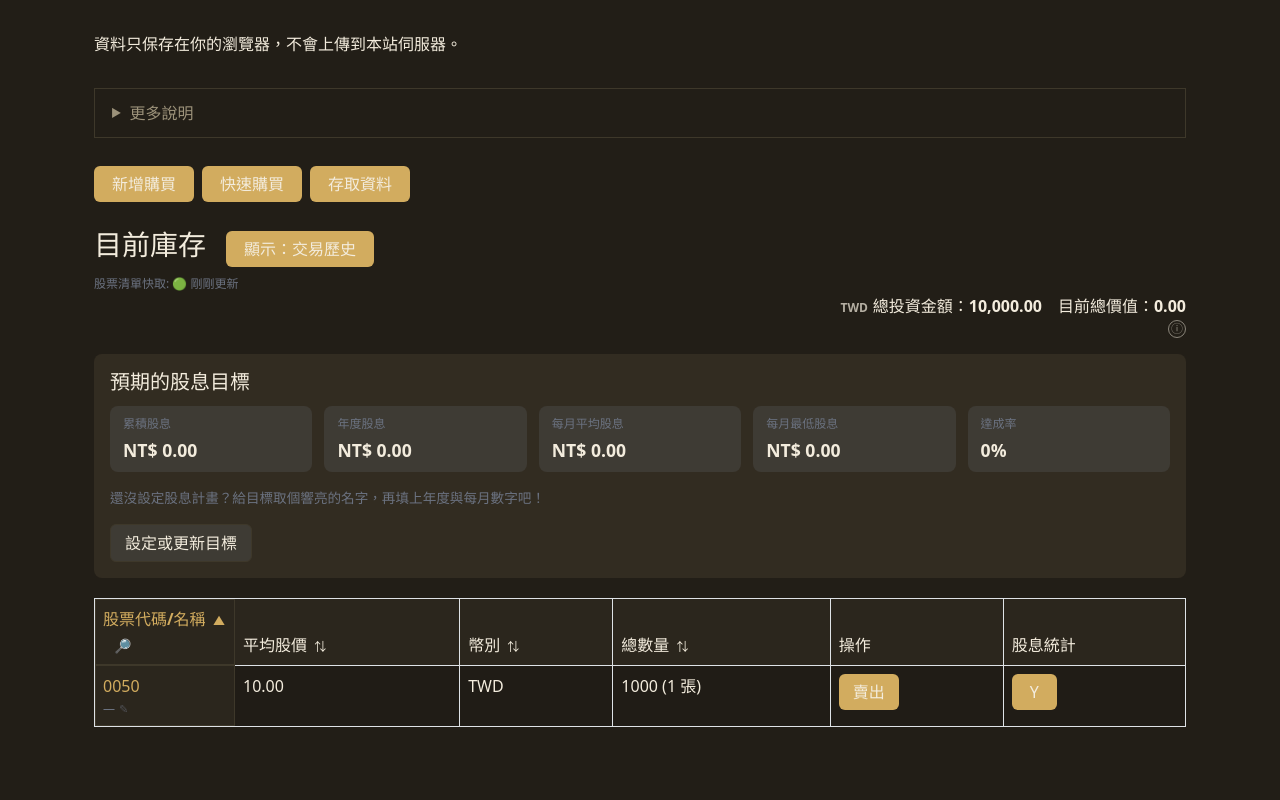
Test: InventoryTab interactions › edits existing transaction
Click the button "顯示：交易歷史": (300, 249) [226,231,374,267]
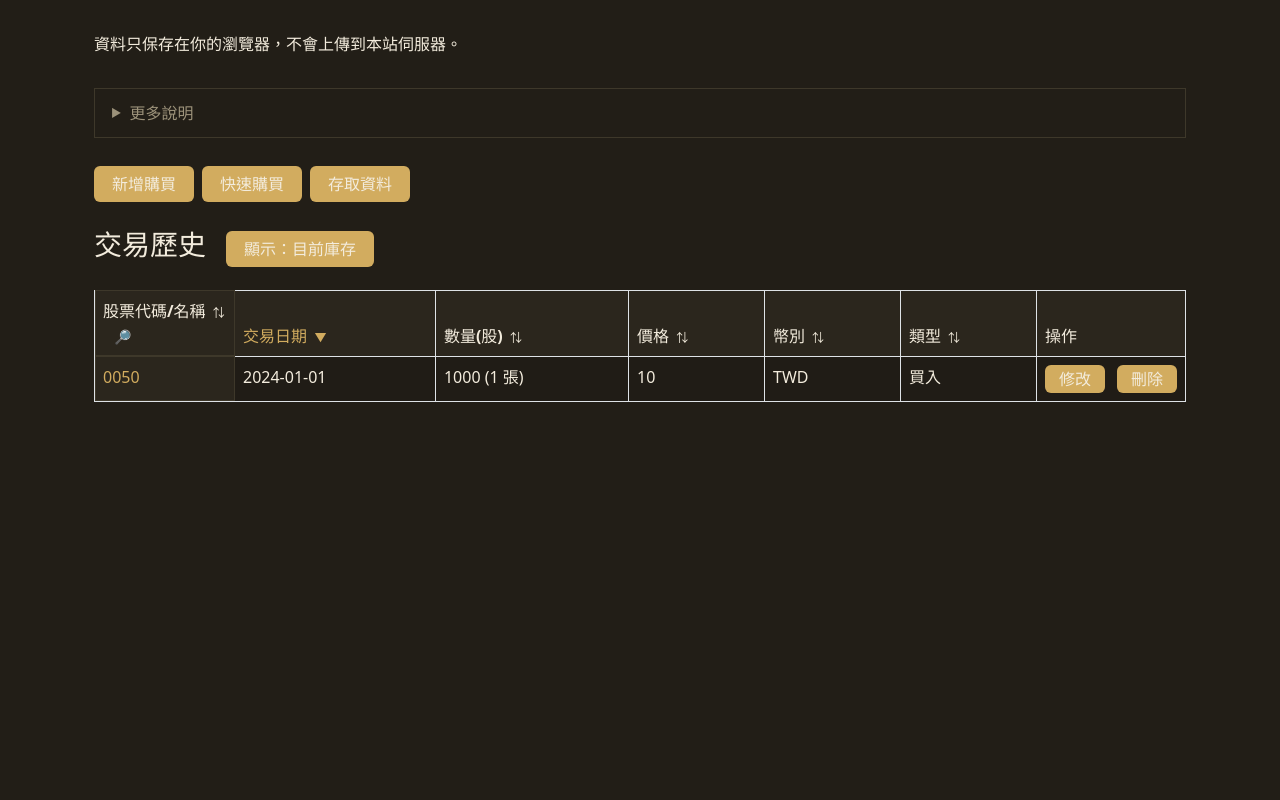
expect the text "0050" is shown: met, box [103,366,140,388]
Click the button "修改": (1075, 379) [1045,365,1105,393]
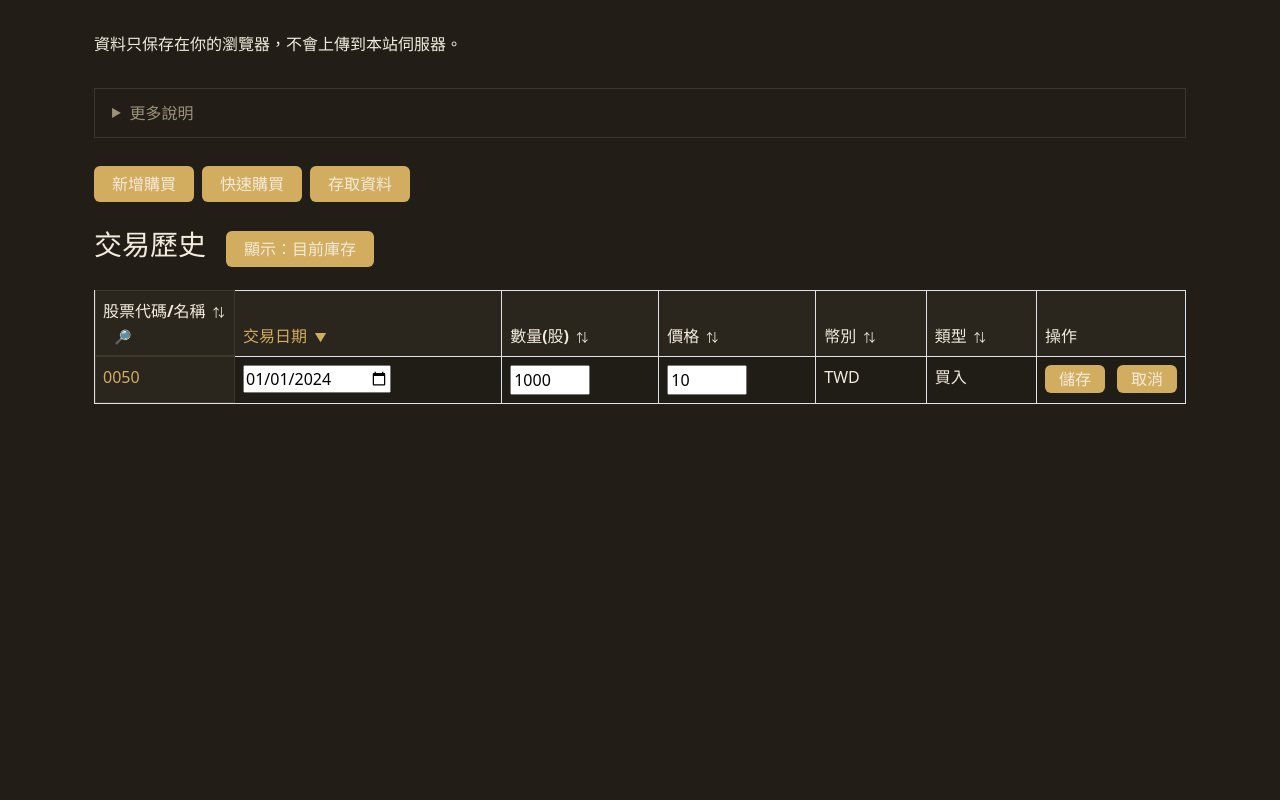
Replace the text in the number field showing "1000" with "2000": (550, 380) [510,365,590,395]
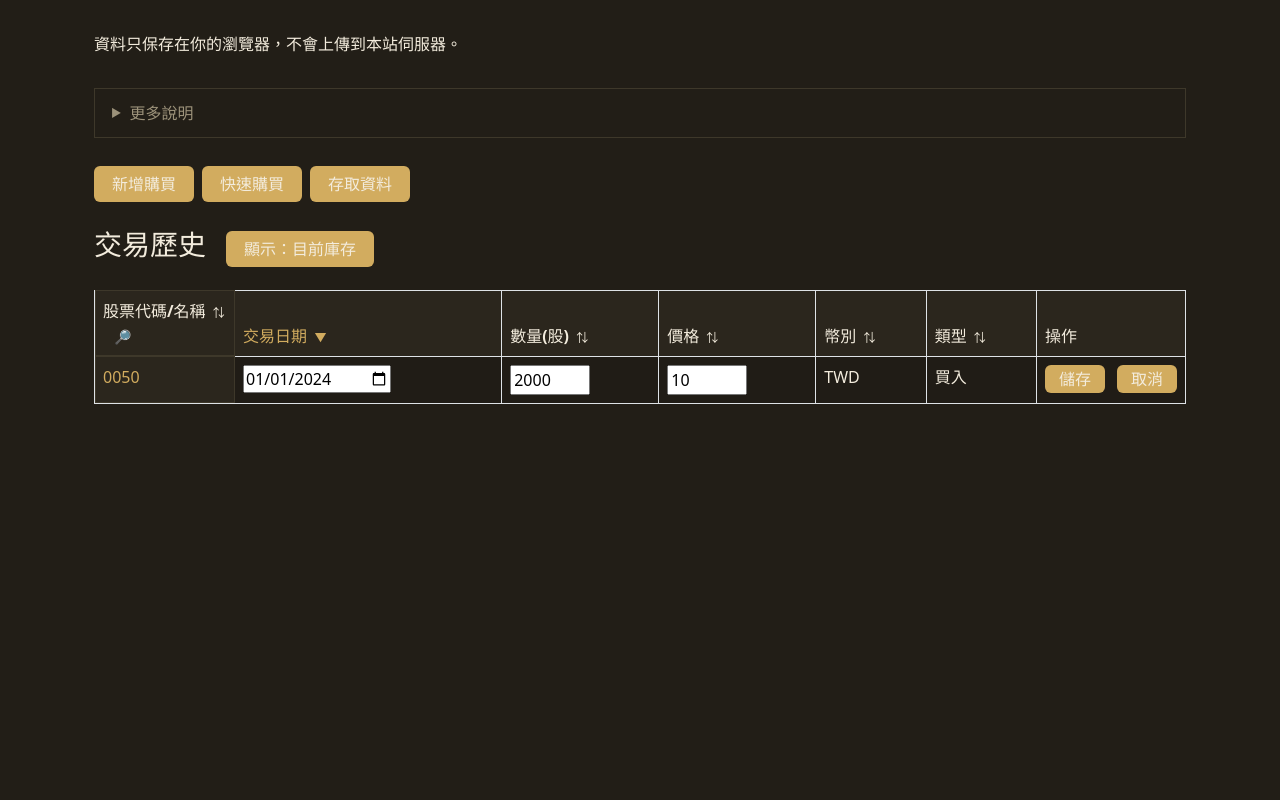
Click the button "儲存": (1075, 379) [1045,365,1105,393]
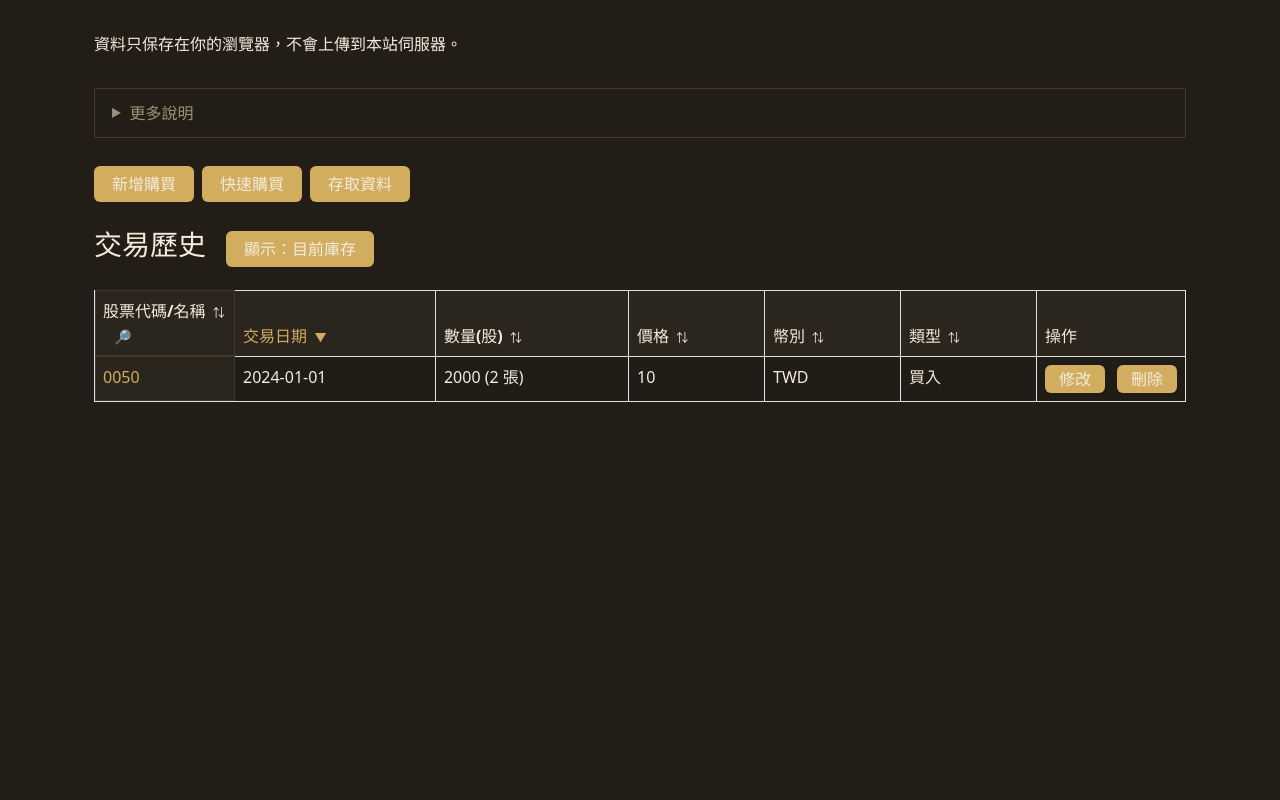
expect the text "2000 (2 張)" is shown: met, box [435,356,628,401]
